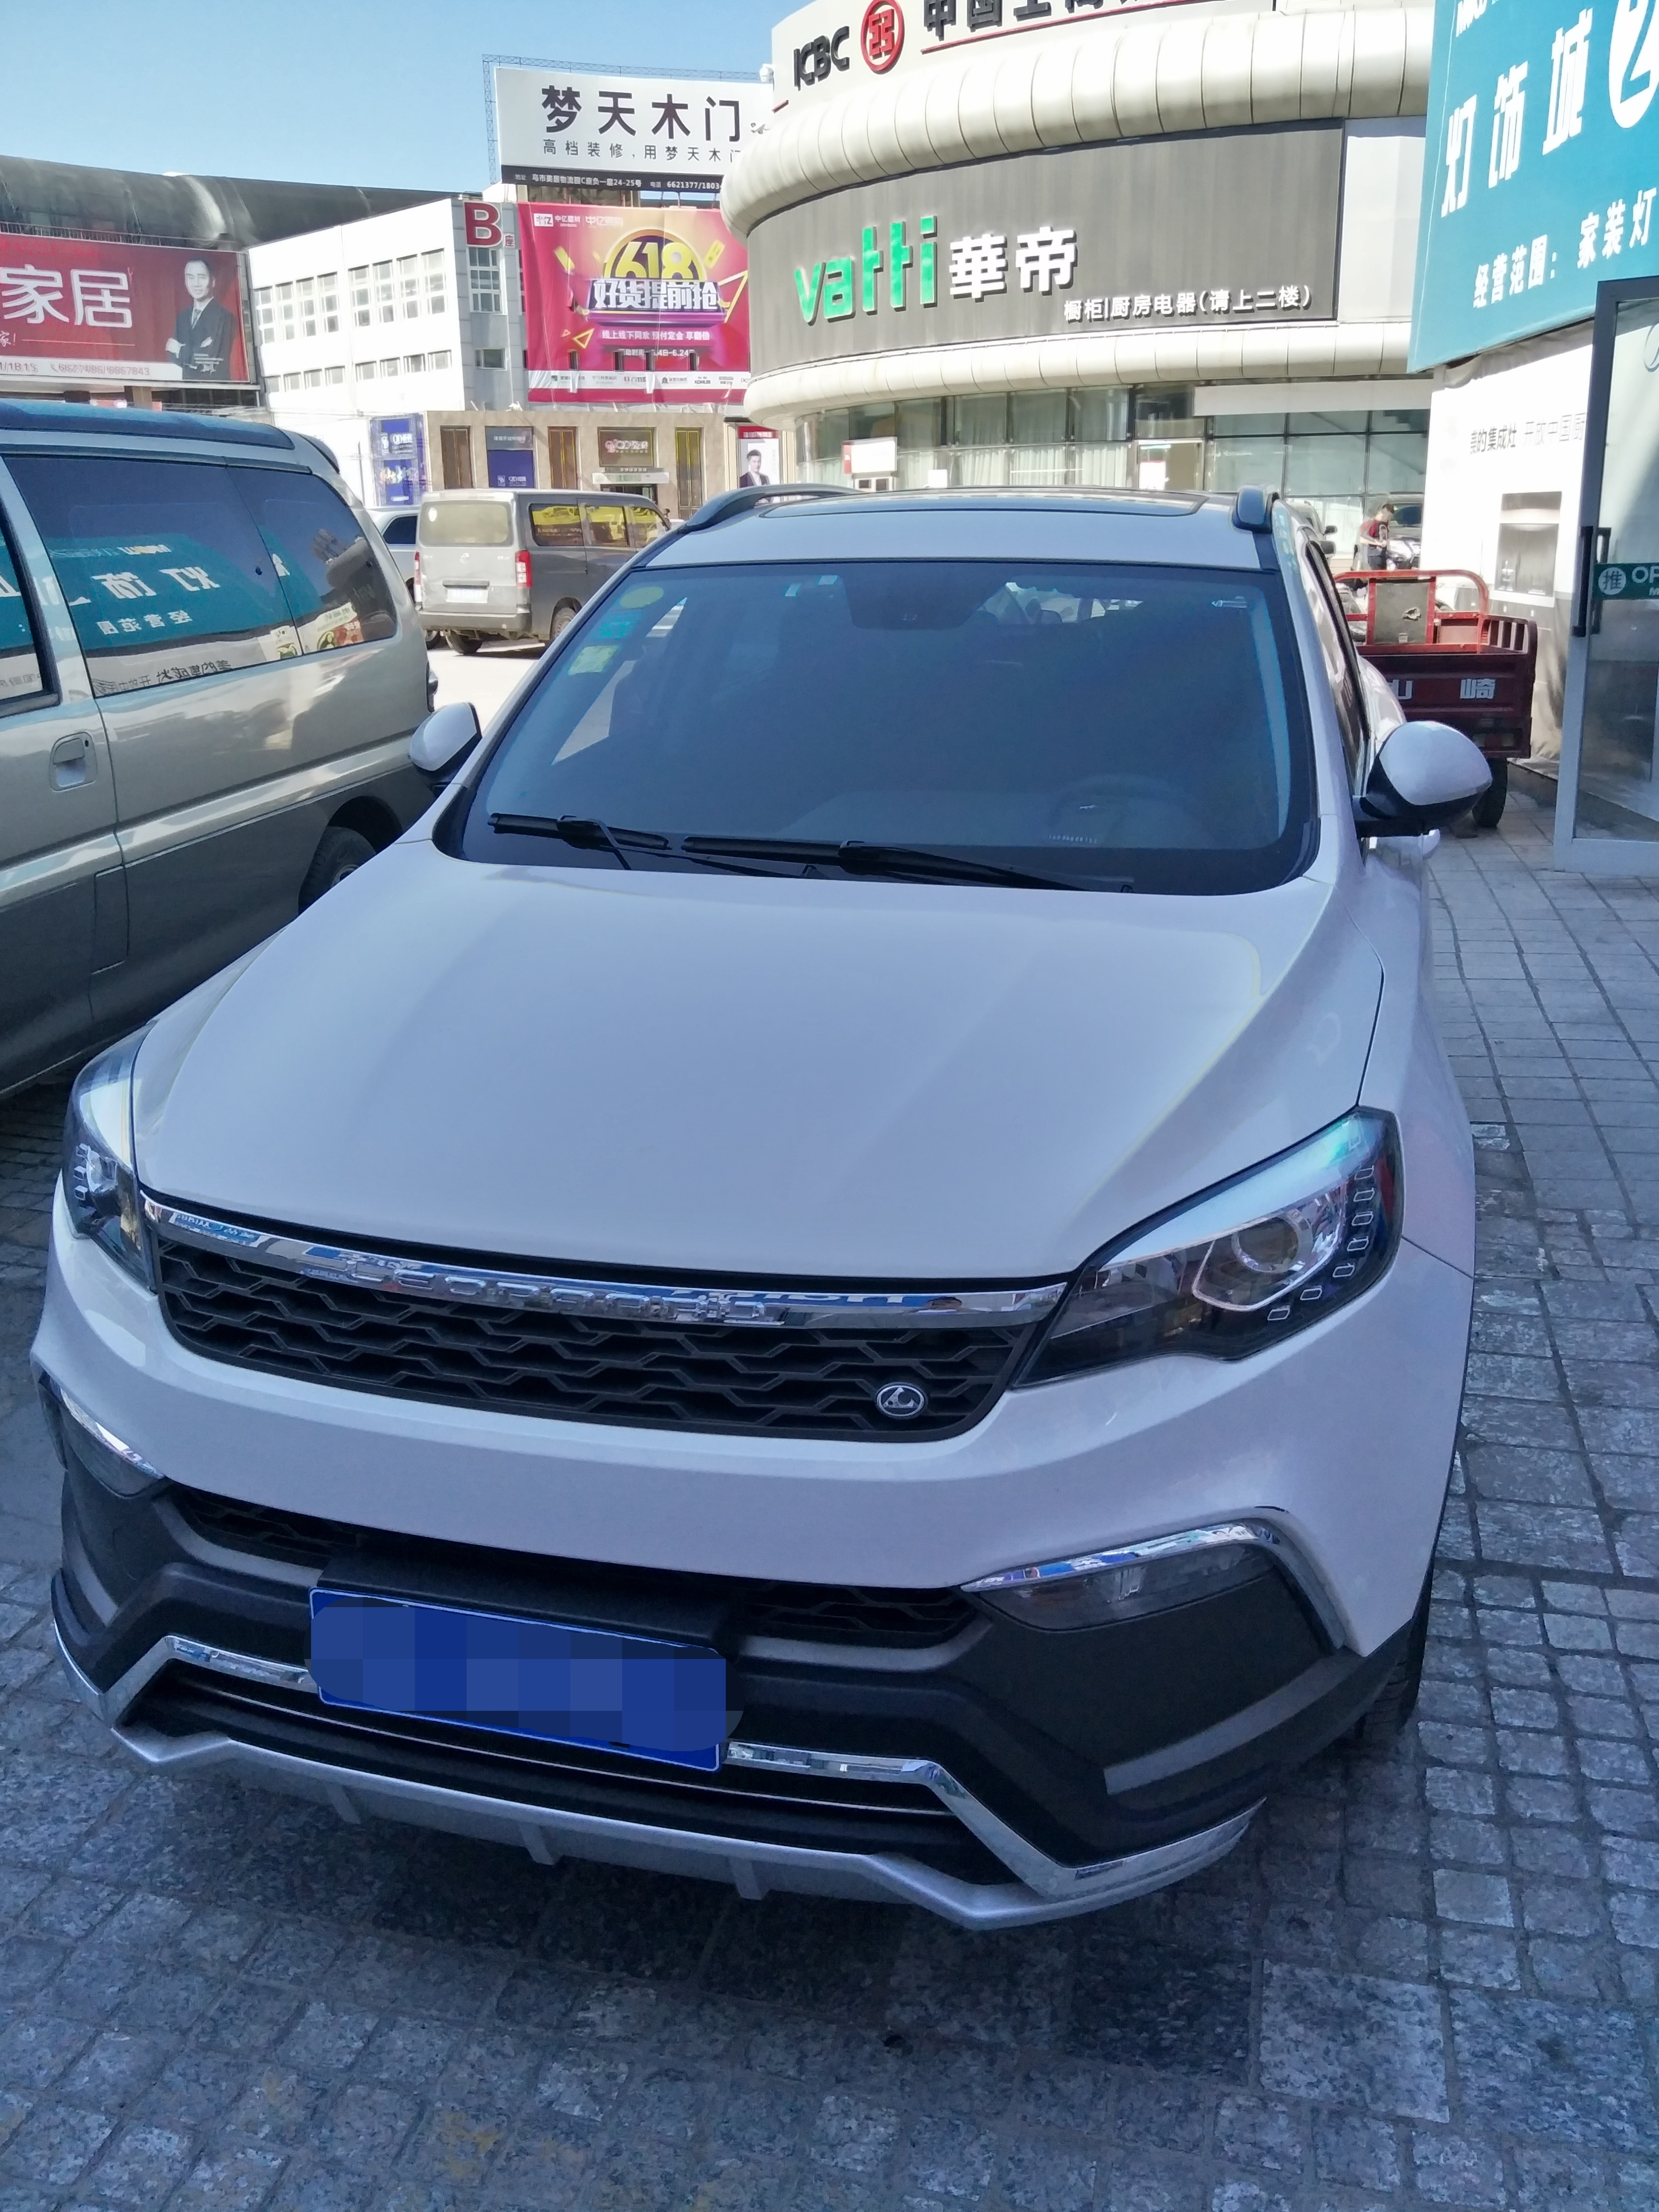SUV: (82, 455, 1499, 1991)
